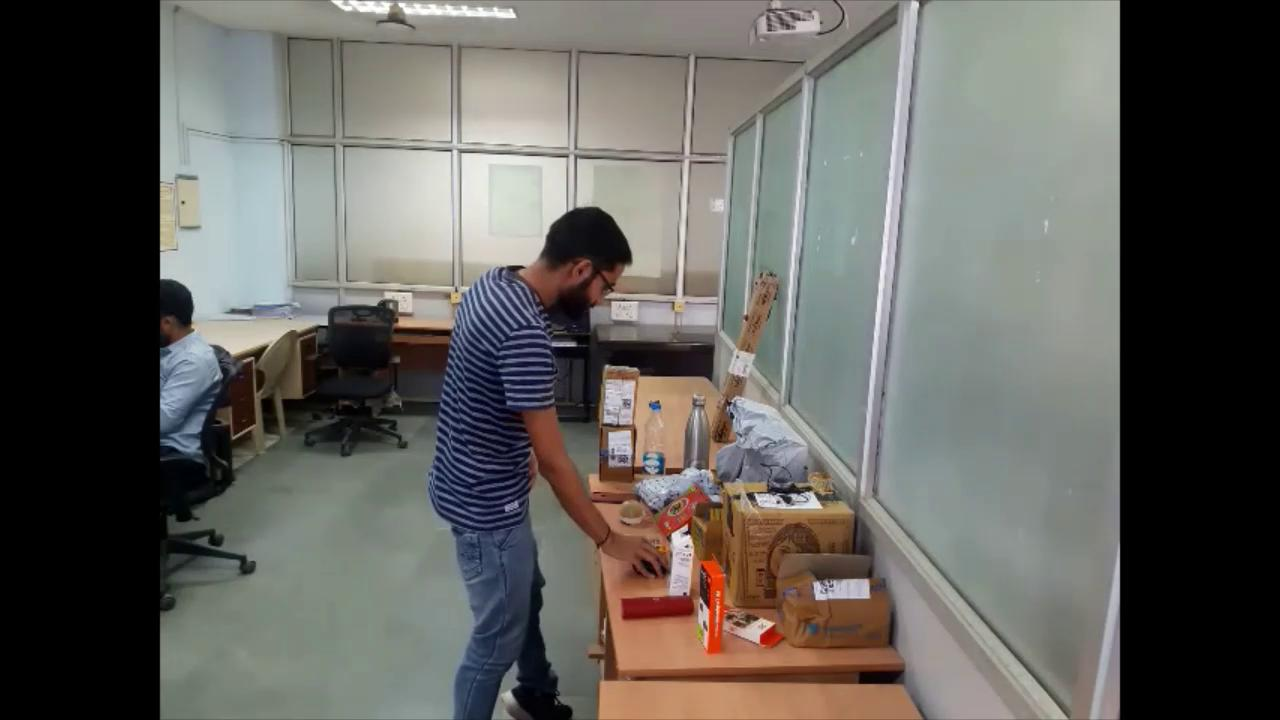Normal: (421, 202, 676, 720)
